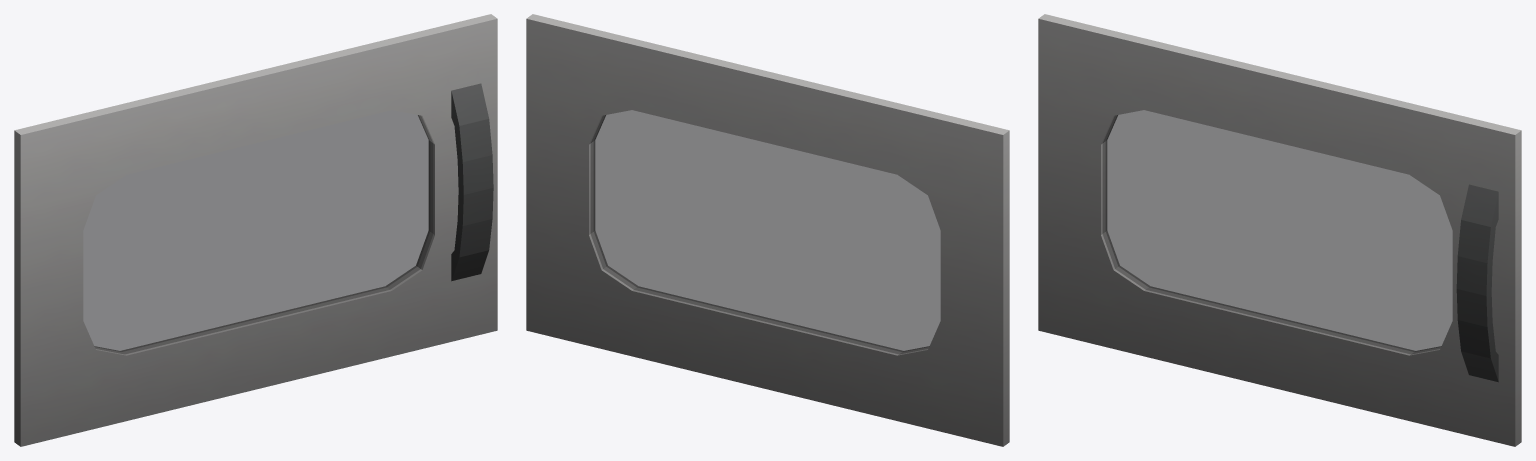
File: Microwave_Oven_Door.fbx
The picture shows the model from 3 angles, left to right: view 1: azimuth 30°, elevation 25°; view 2: azimuth 150°, elevation 25°; view 3: azimuth 330°, elevation 25°; orthographic projection.
Visible parts, largest first — view 1: Microwave_Oven_Door; view 2: Microwave_Oven_Door; view 3: Microwave_Oven_Door.
Part boxes in pixels (x1,y1,x2,y2): Microwave_Oven_Door: (14,14,497,446); Microwave_Oven_Door: (526,14,1009,446); Microwave_Oven_Door: (1038,14,1521,446).
Bounding box in the file's own units: 64 × 40 × 4.37.
